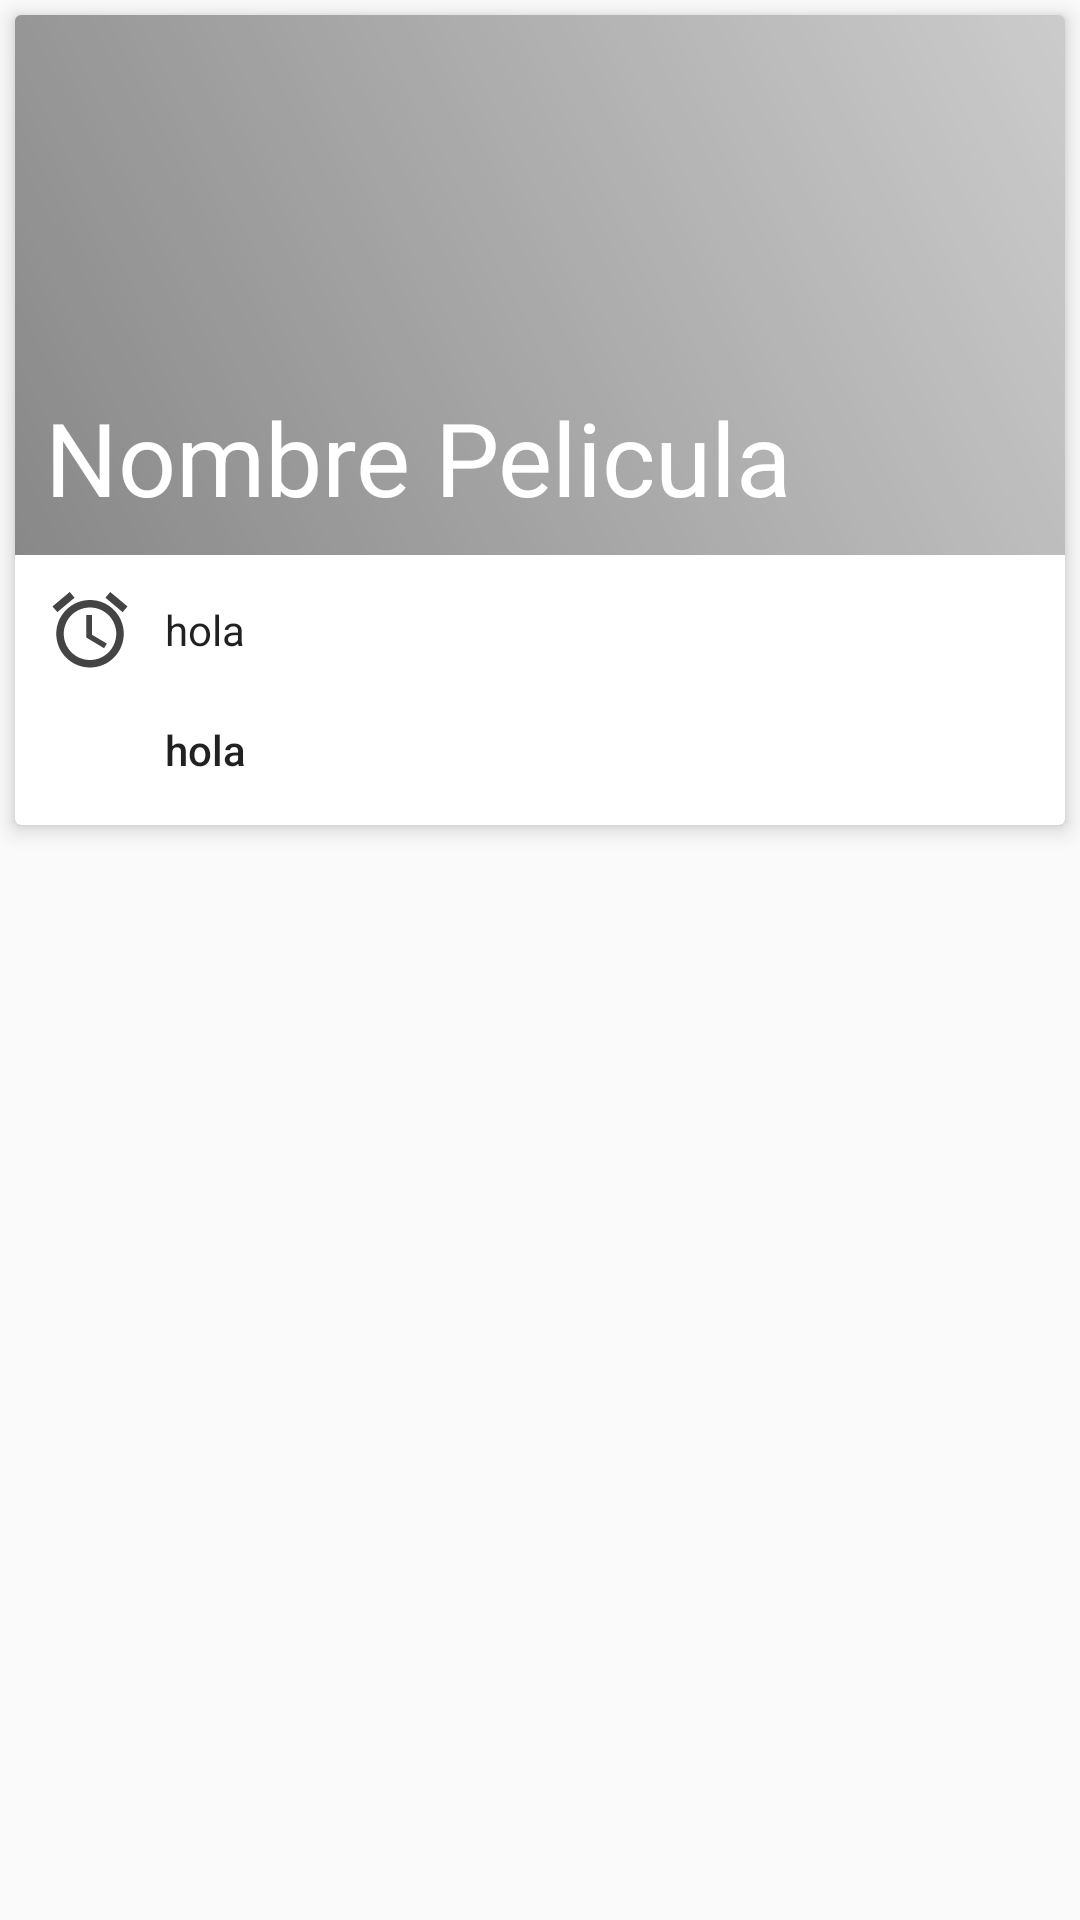

Icons on this 1080×1920 Android screen, each with its box as (x1=x1, y1=y1, x2=x2, y2=y2):
alarm: (x1=52, y1=592, x2=128, y2=668)
